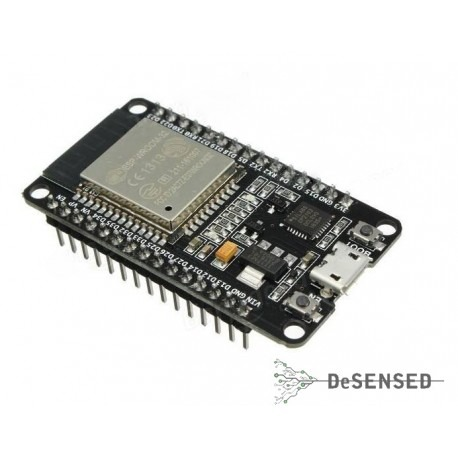ESP32-WROOM: (16, 82, 427, 361)
